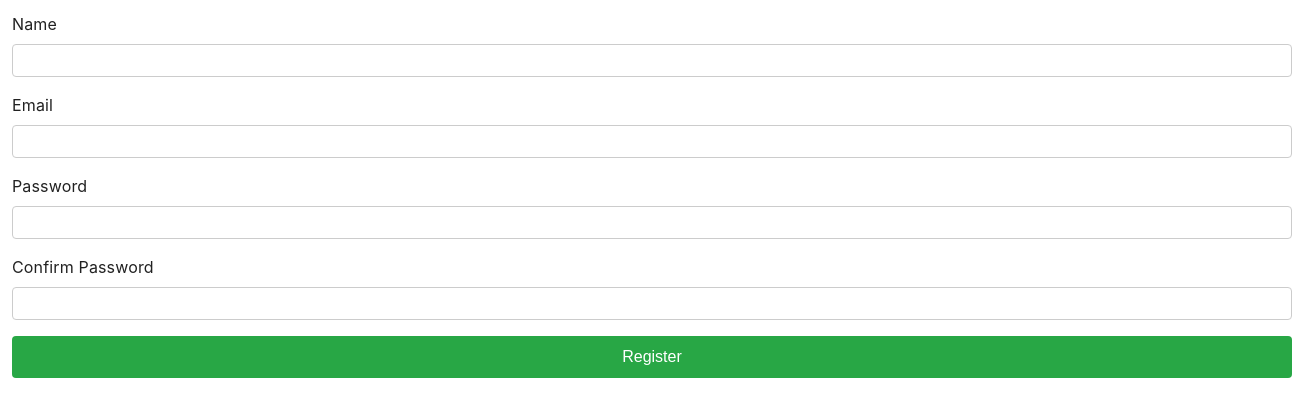
Scenario: RegisterForm › should disable submit button while loading
Type "Test User" into the field labelled "Name" at (652, 60), box [12,44,1292,77]
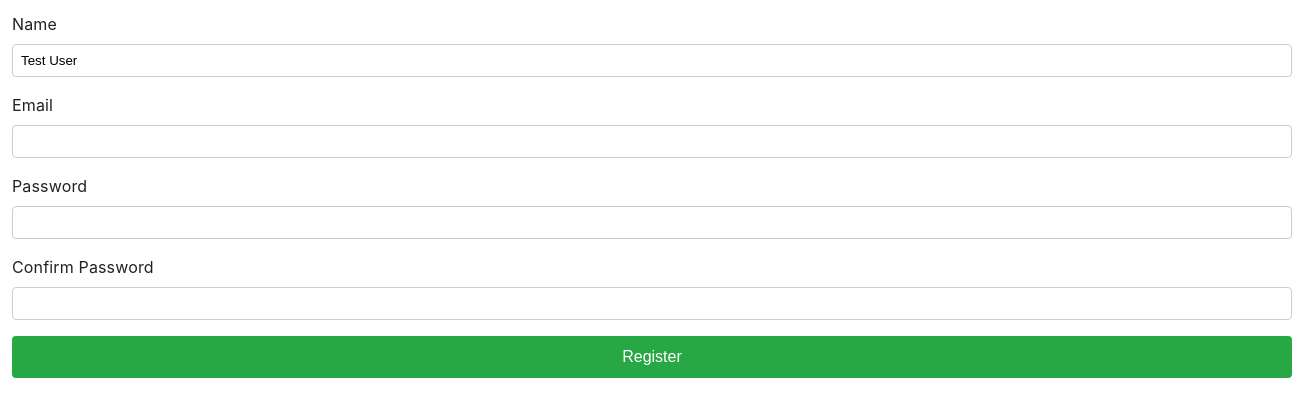
Type "test@example.com" into the field labelled "Email" at (652, 142), box [12,125,1292,158]
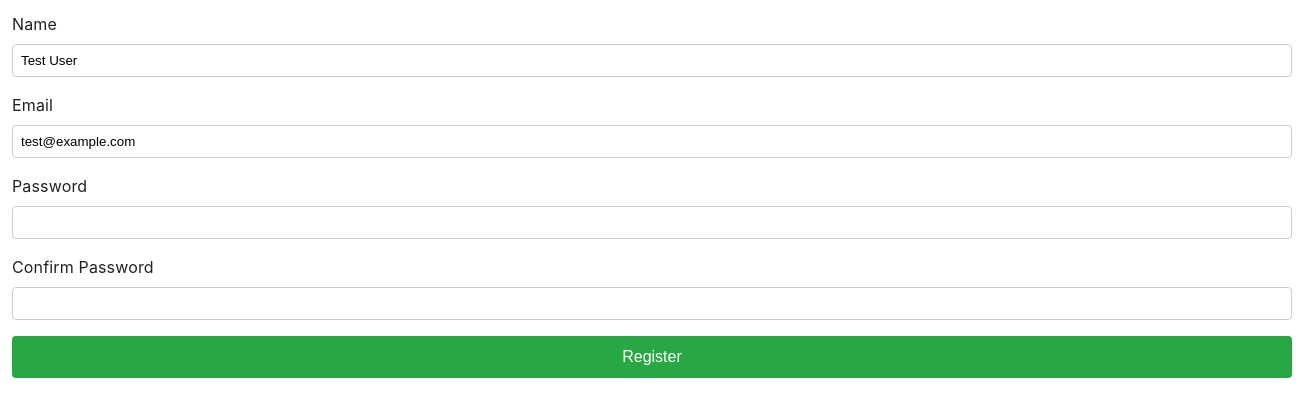
Type "password123" into the password field labelled "Password" at (652, 222), box [12,206,1292,239]
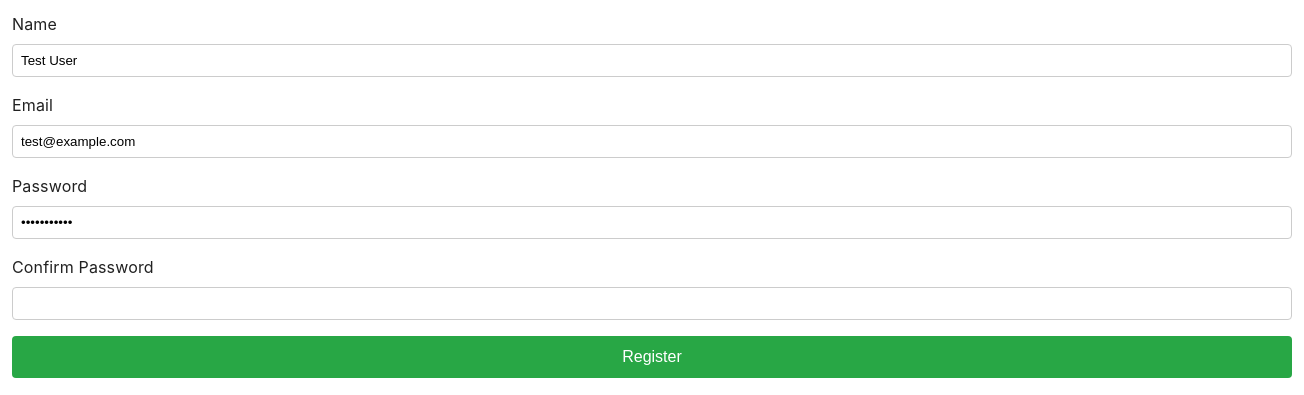
Type "password123" into the password field labelled "Confirm Password" at (652, 304), box [12,287,1292,320]
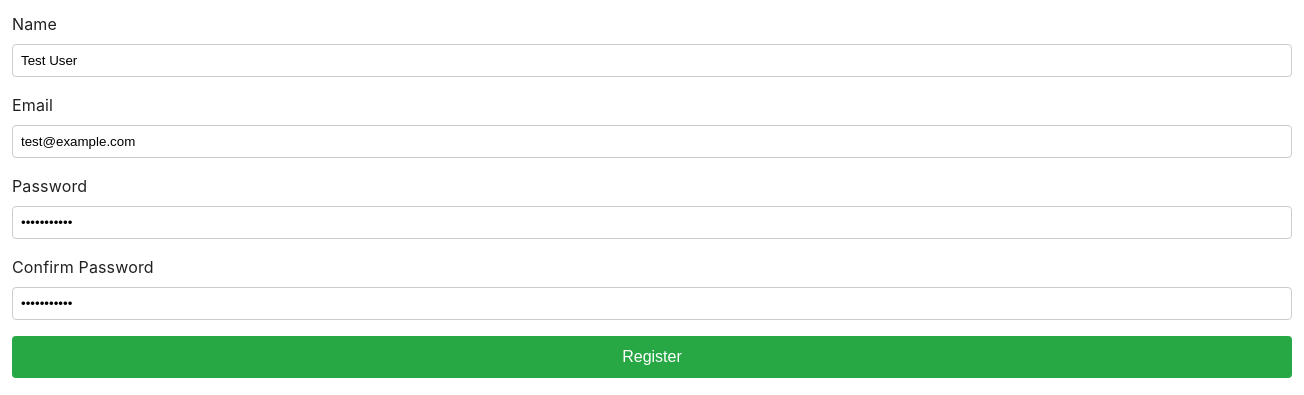
Click the button "Register" at (652, 357), box [12,336,1292,378]
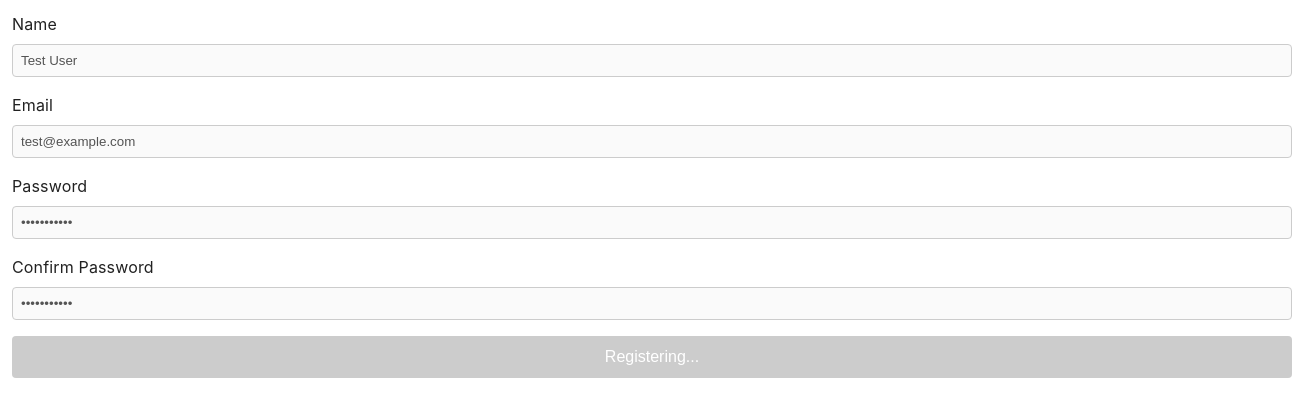
Expected: the button "Registering..." is disabled, [12,336,1292,378]
